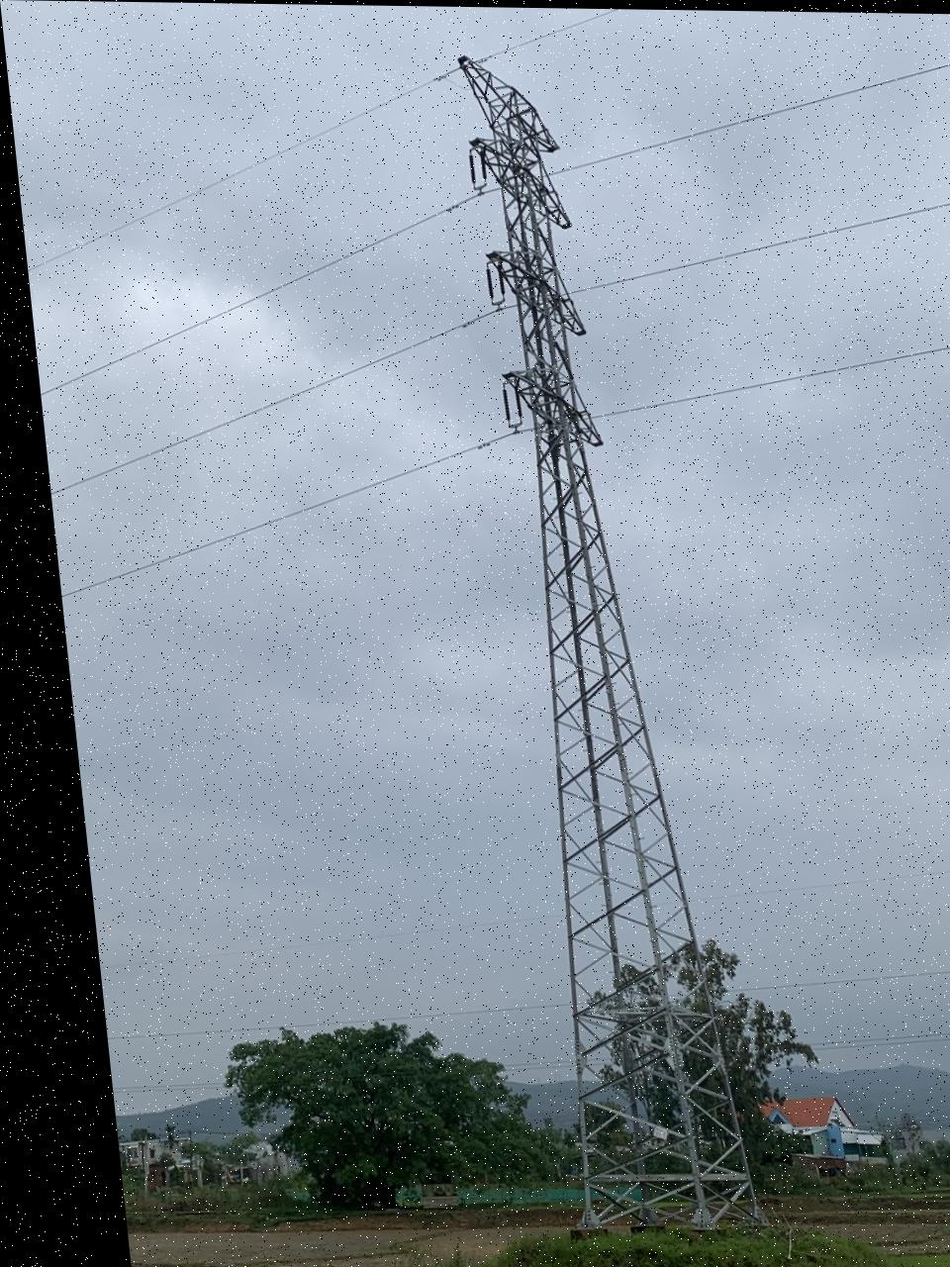tower: (436, 51, 741, 1237)
